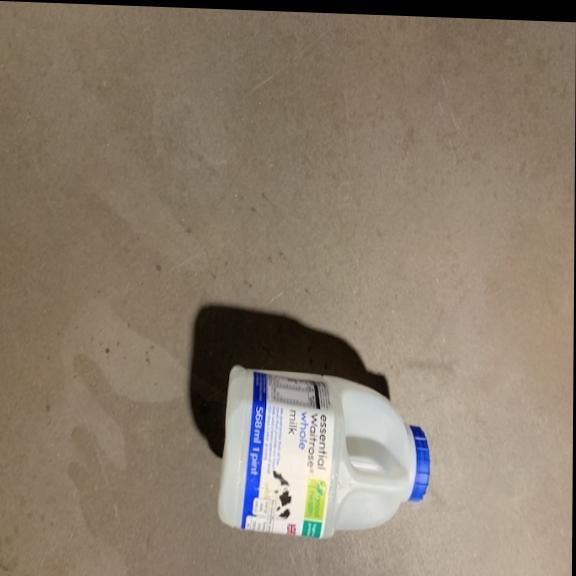Plastik: (216, 359, 435, 543)
